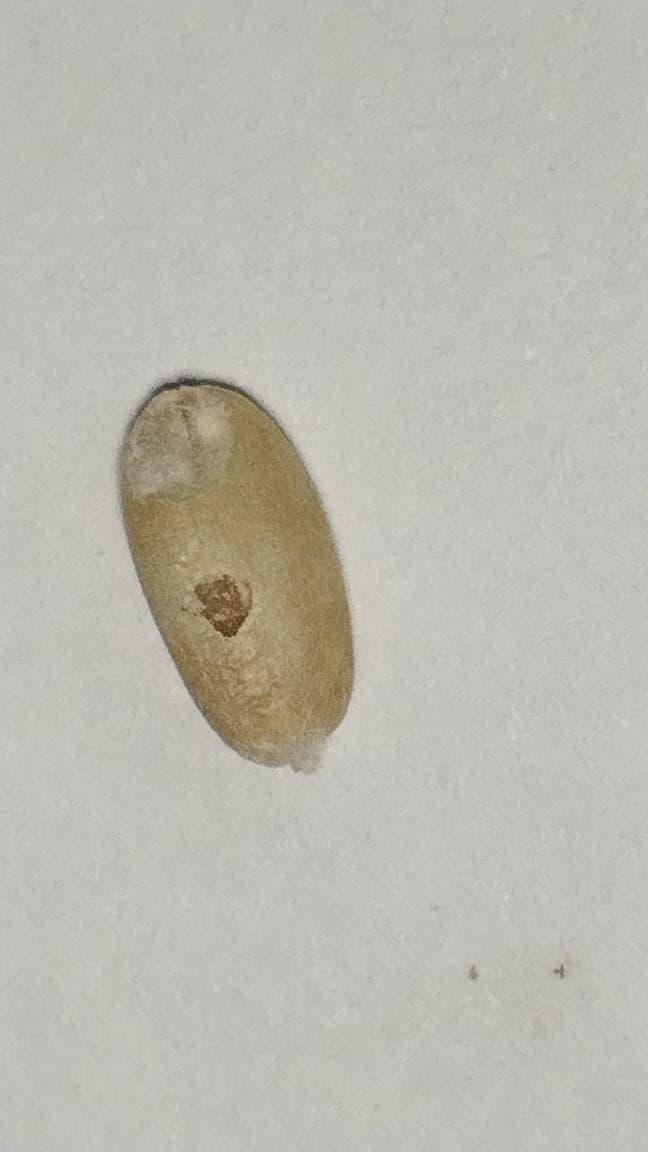damage: (121, 379, 352, 769)
insectdamage: (181, 552, 321, 697)
